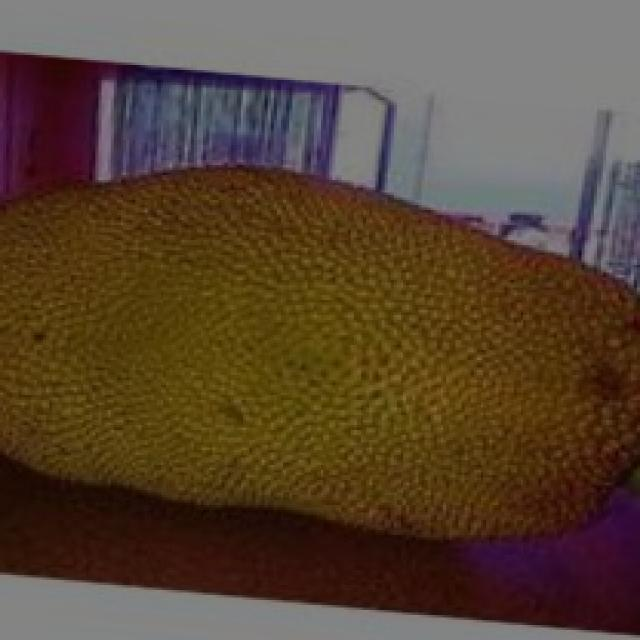Fruit: (0, 140, 403, 560), (264, 157, 640, 594)
